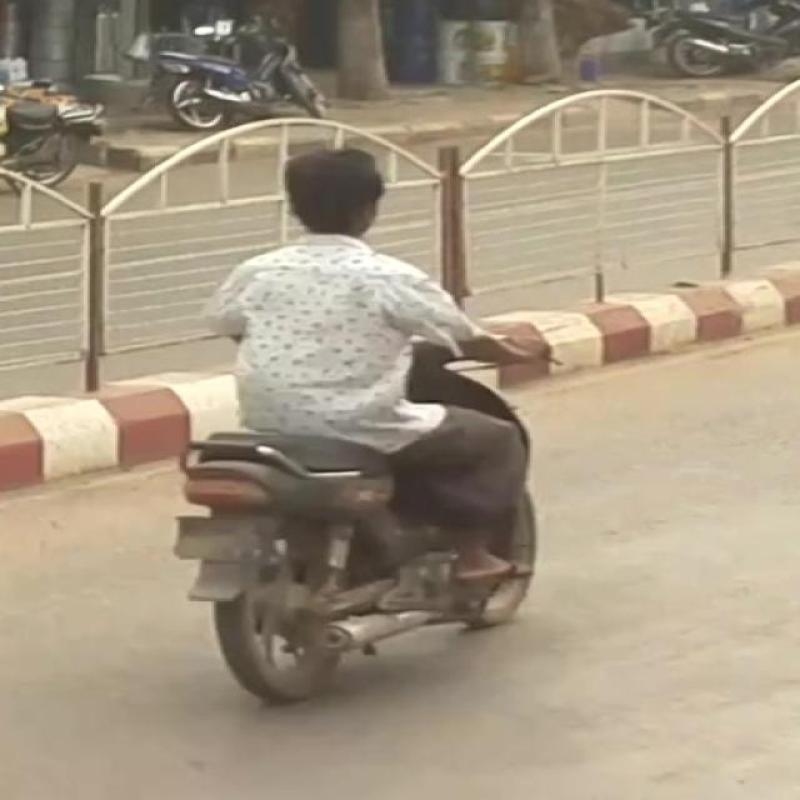nohelmet: (268, 142, 412, 250)
